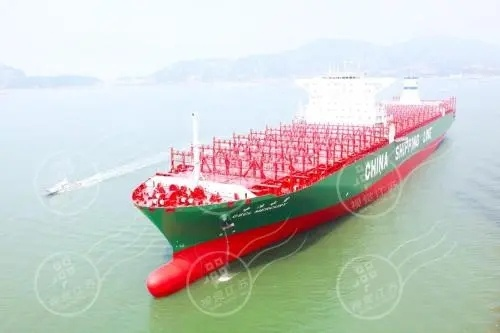Cargoship: (124, 58, 463, 293)
